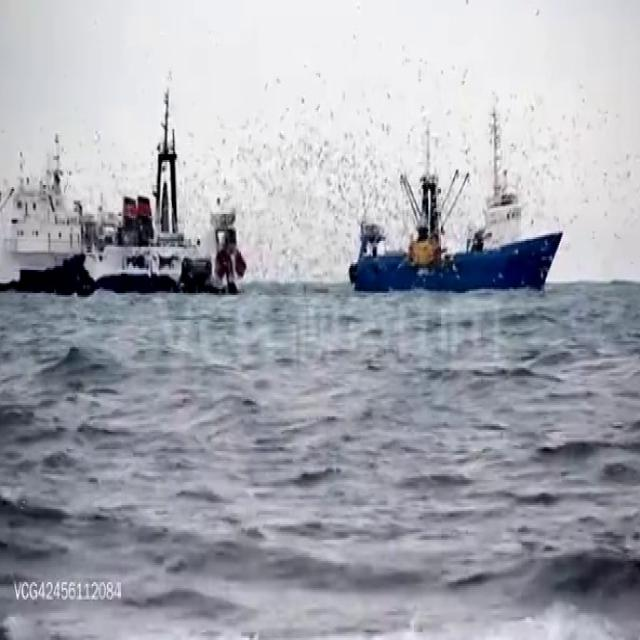houseboat: (57, 86, 248, 289), (343, 118, 560, 296), (0, 127, 112, 275)
